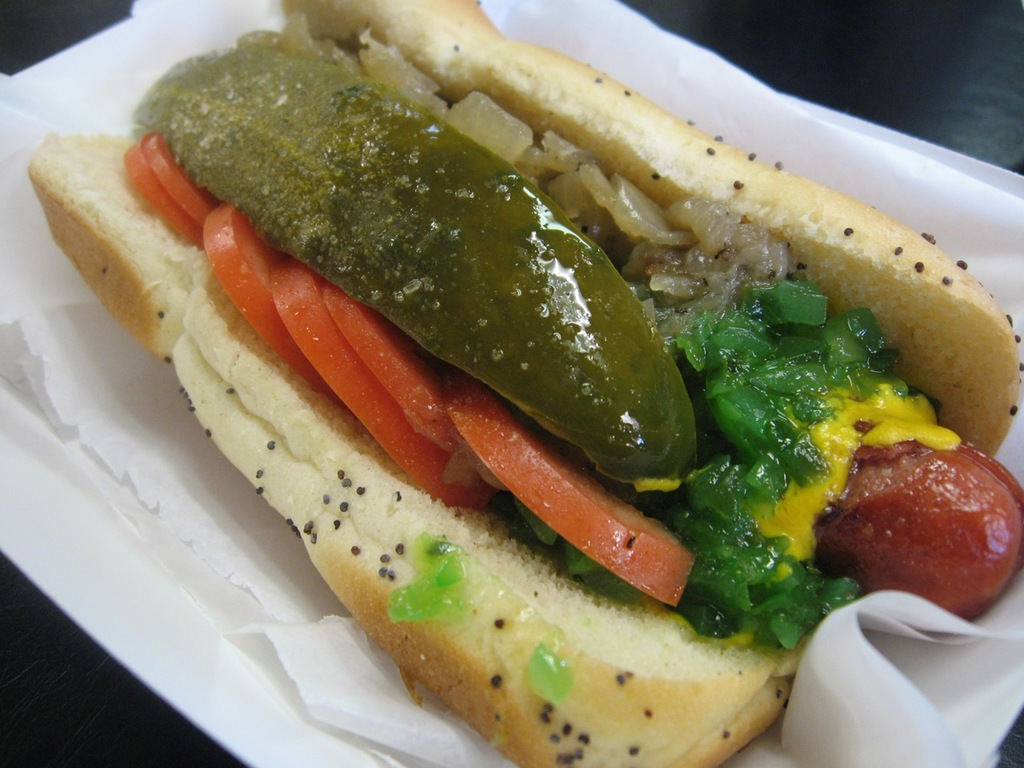hot_dog: (23, 0, 1023, 767)
